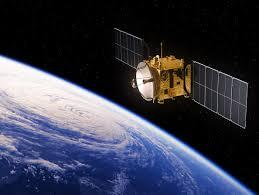antenna: (134, 60, 159, 105)
body: (141, 53, 190, 106)
solar: (191, 59, 250, 131), (112, 26, 146, 73)
